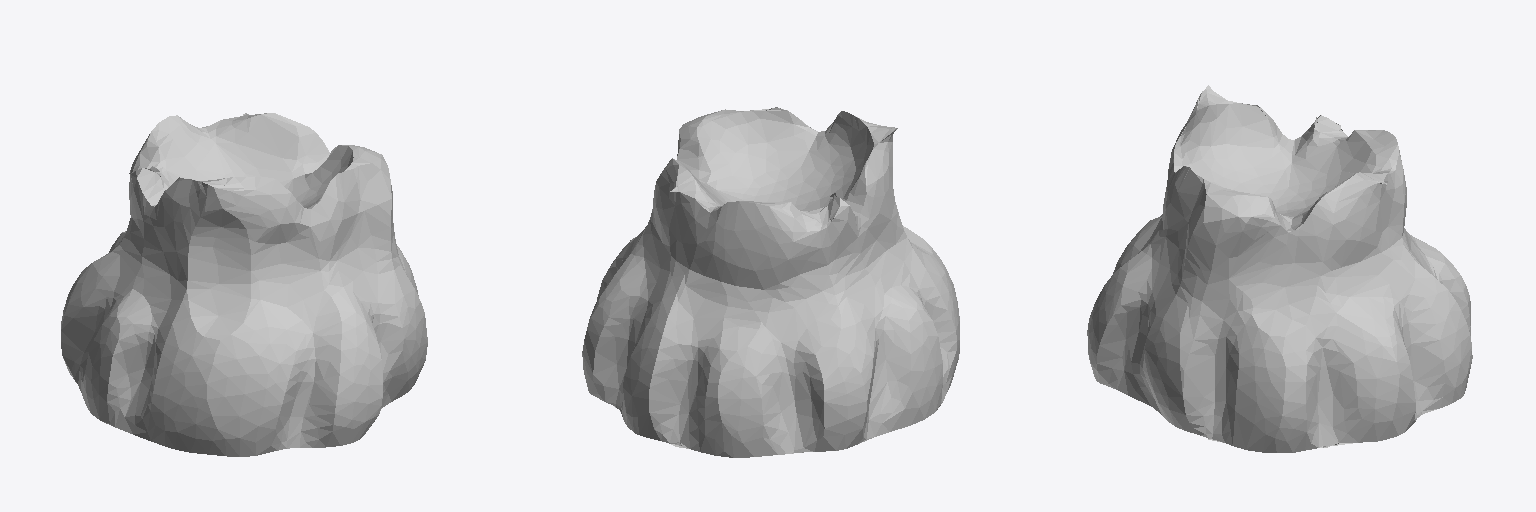
The model's file is LOG.OBJ.
The picture shows the model from 3 angles: view 1: azimuth 30°, elevation 25°; view 2: azimuth 150°, elevation 25°; view 3: azimuth 270°, elevation 25°; orthographic projection.
Visible parts, largest first — view 1: Group10054; view 2: Group10054; view 3: Group10054.
Boxes of the visible parts, box(x1,y1,x2,y2) form: Group10054: box(61, 113, 427, 456); Group10054: box(582, 107, 959, 457); Group10054: box(1087, 85, 1472, 452).
Size of the model in its own units: 0.4199 by 0.3082 by 0.4291.